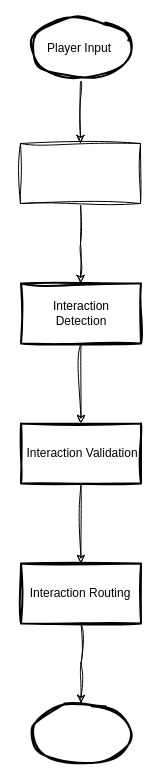
The diagram is 164 pixels wide and 781 high, and some of its shapes have lost their labels. The centre of each missing label's shape, as x and y in pixels:
"Interaction Execution" belongs at point 81,733.
"Movement" belongs at point 80,173.
